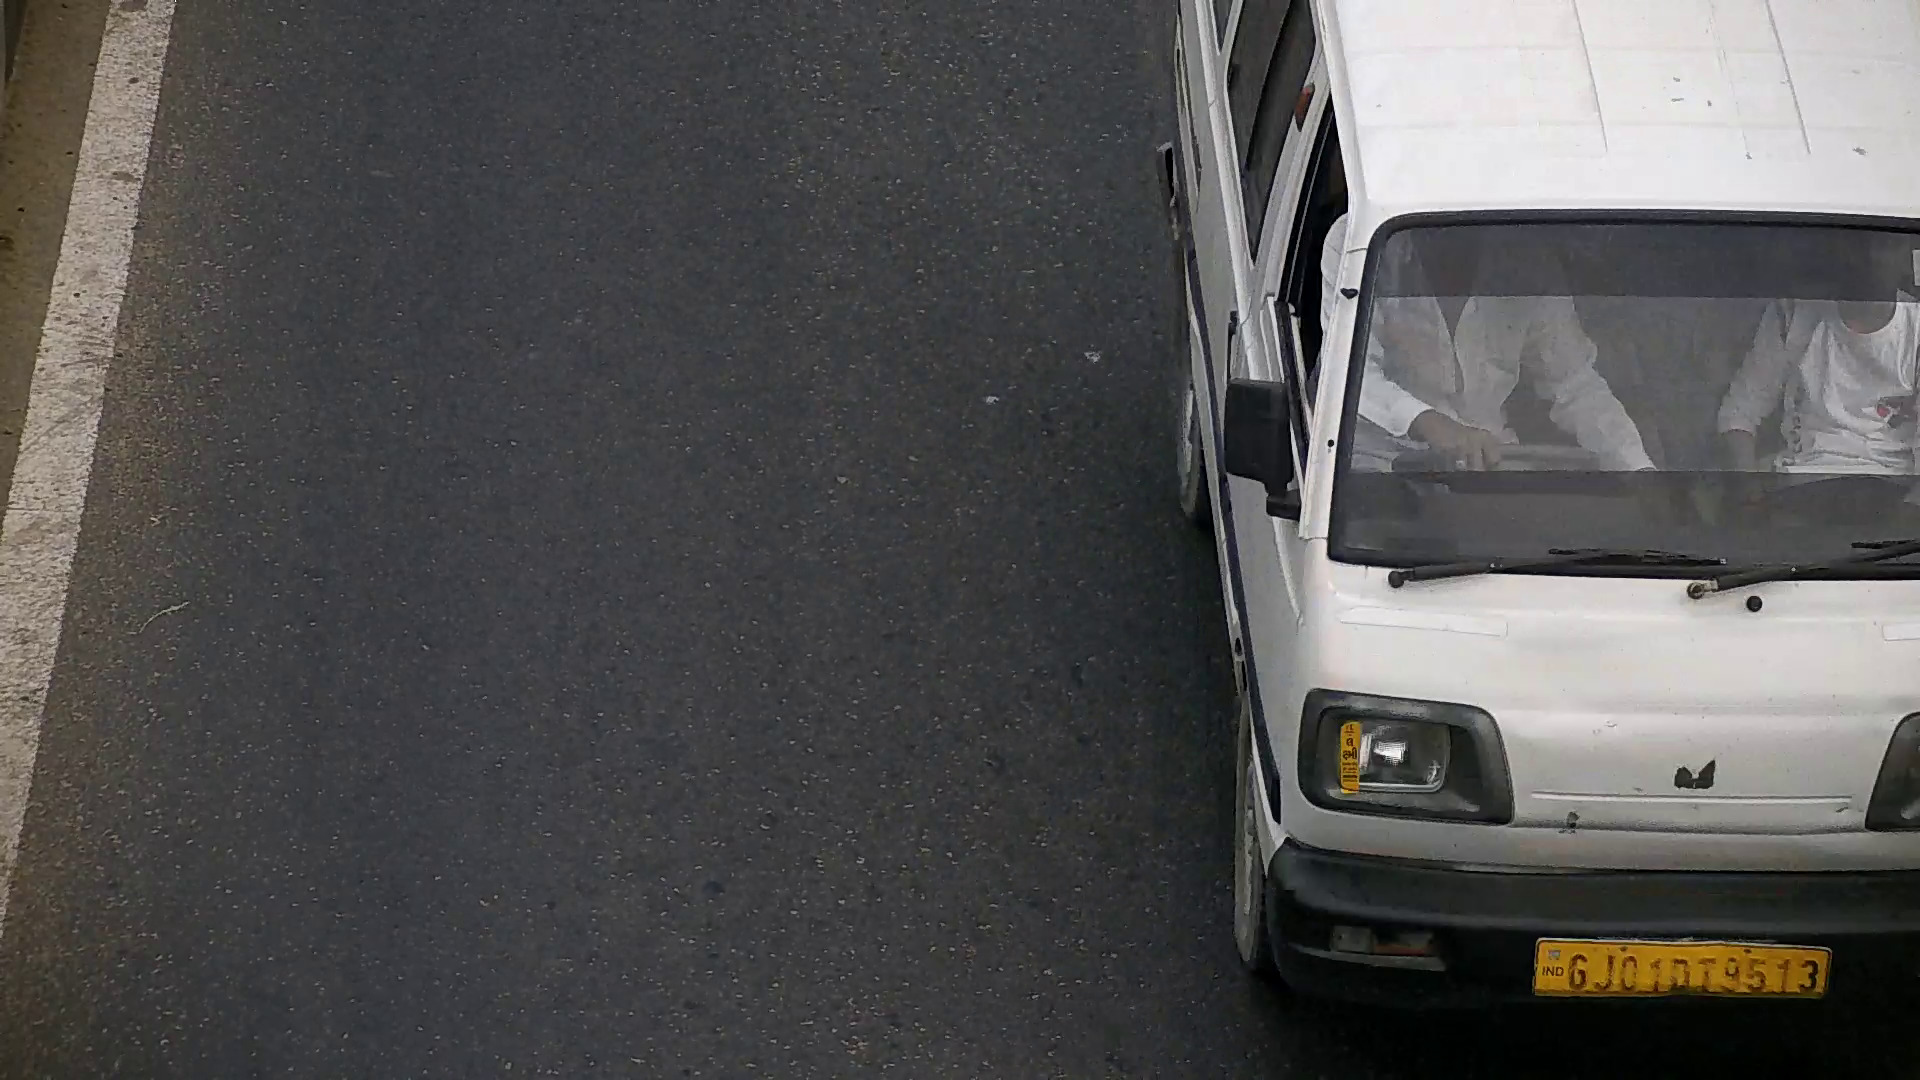numberplate: (1535, 937, 1835, 1002)
